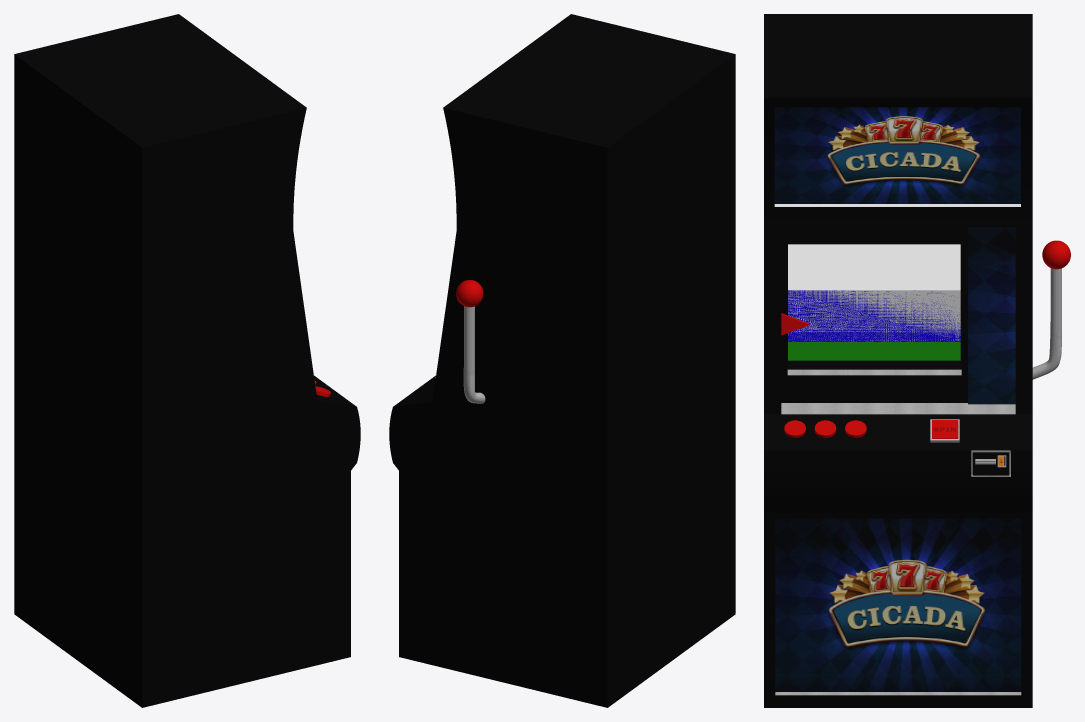
Rendered from slots.fbx.
The picture shows the model from 3 angles, left to right: view 1: azimuth 30°, elevation 25°; view 2: azimuth 150°, elevation 25°; view 3: azimuth 270°, elevation 25°; orthographic projection. The views are drawn at different scales.
Parts seen in each view (by area): view 1: Mesh1_Plastic_0; view 2: Mesh1_Plastic_0, handle, handle_ball; view 3: Mesh1_Plastic_0, Mesh1_Slot2_0, Mesh1_Slot1_0, spin_base, Slot_Machine1, gacha1, Mesh1_Aluminum_0, gacha8, machine_back, handle, Mesh1_Color_A07_0, Mesh1_Metal_Silver_0 (+2 smaller).
Part boxes in pixels (bbox=[...]): Mesh1_Plastic_0: bbox=[14, 14, 360, 707]; Mesh1_Plastic_0: bbox=[389, 14, 735, 707]; handle: bbox=[463, 306, 485, 403]; handle_ball: bbox=[456, 280, 483, 307]; Mesh1_Plastic_0: bbox=[764, 14, 1032, 707]; Mesh1_Slot2_0: bbox=[775, 518, 1021, 691]; Mesh1_Slot1_0: bbox=[774, 107, 1020, 203]; spin_base: bbox=[788, 244, 960, 341]; Slot_Machine1: bbox=[968, 227, 1015, 404]; gacha1: bbox=[788, 290, 960, 341]; Mesh1_Aluminum_0: bbox=[775, 369, 1021, 695]; gacha8: bbox=[788, 342, 960, 360]; machine_back: bbox=[787, 244, 961, 369]; handle: bbox=[1032, 268, 1061, 379]; Mesh1_Color_A07_0: bbox=[784, 420, 957, 438]; Mesh1_Metal_Silver_0: bbox=[774, 204, 1020, 206].
Size of the model in its own units: 1307 by 3180 by 1507.
Materials: 19 (14 with a texture image).
